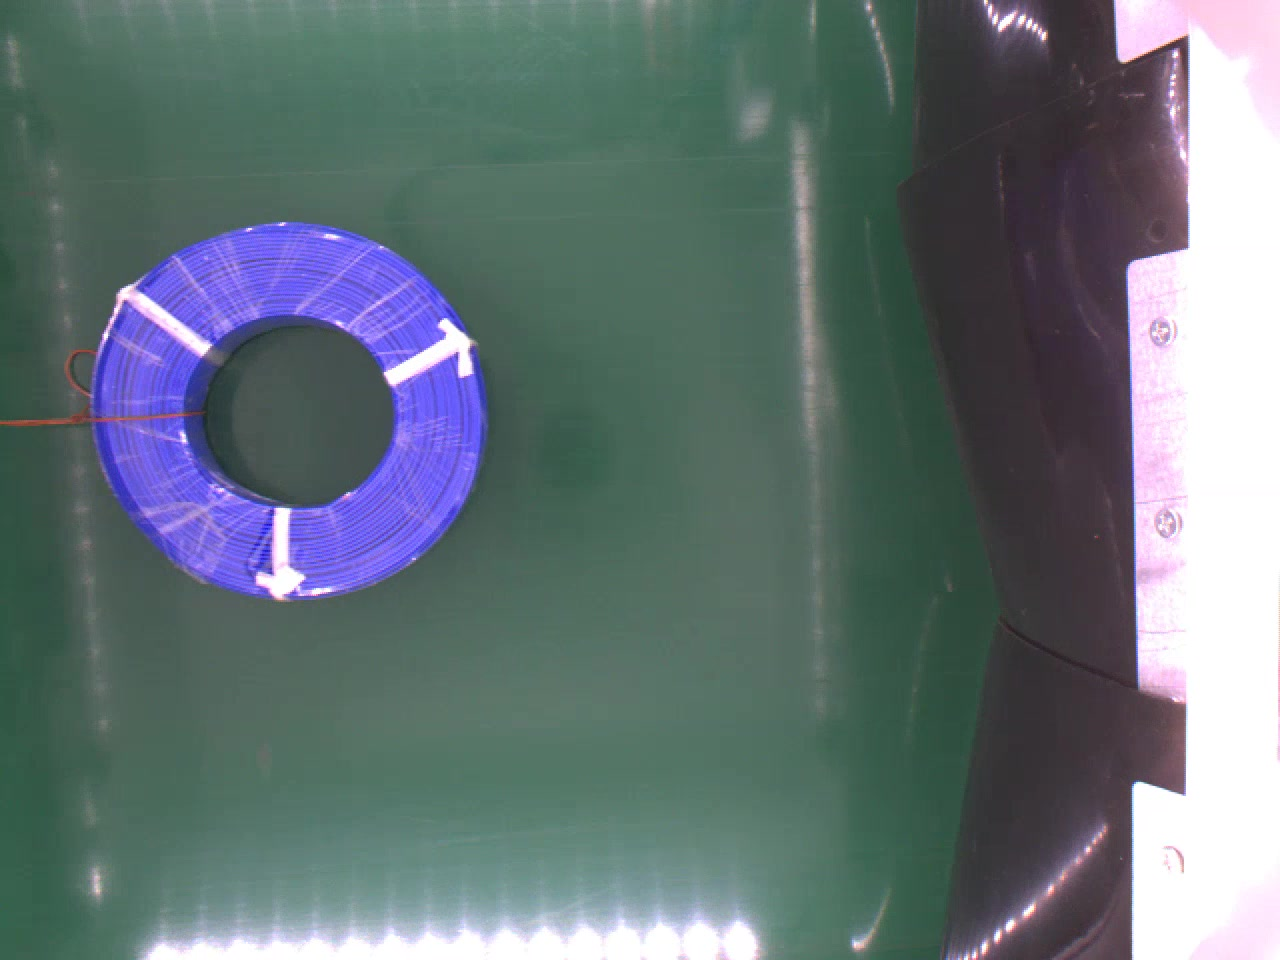blue: (93, 225, 484, 604)
